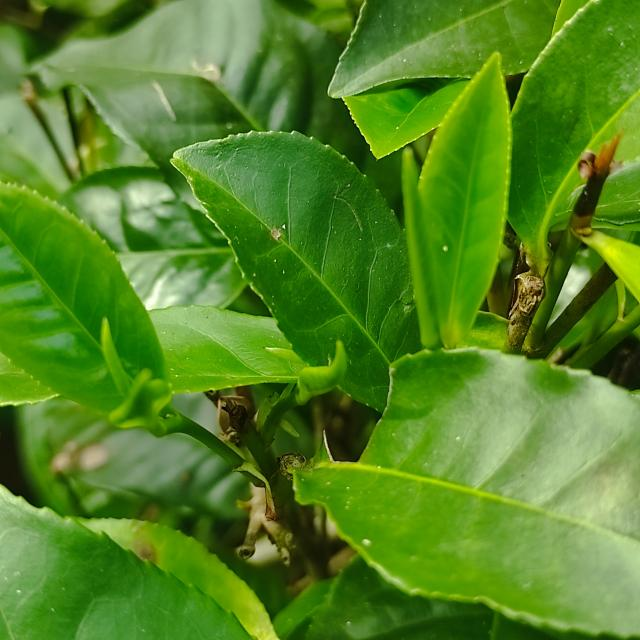unopened_leaf: (393, 142, 459, 361), (105, 360, 187, 443), (291, 335, 353, 410), (95, 313, 138, 401), (257, 341, 317, 374)
